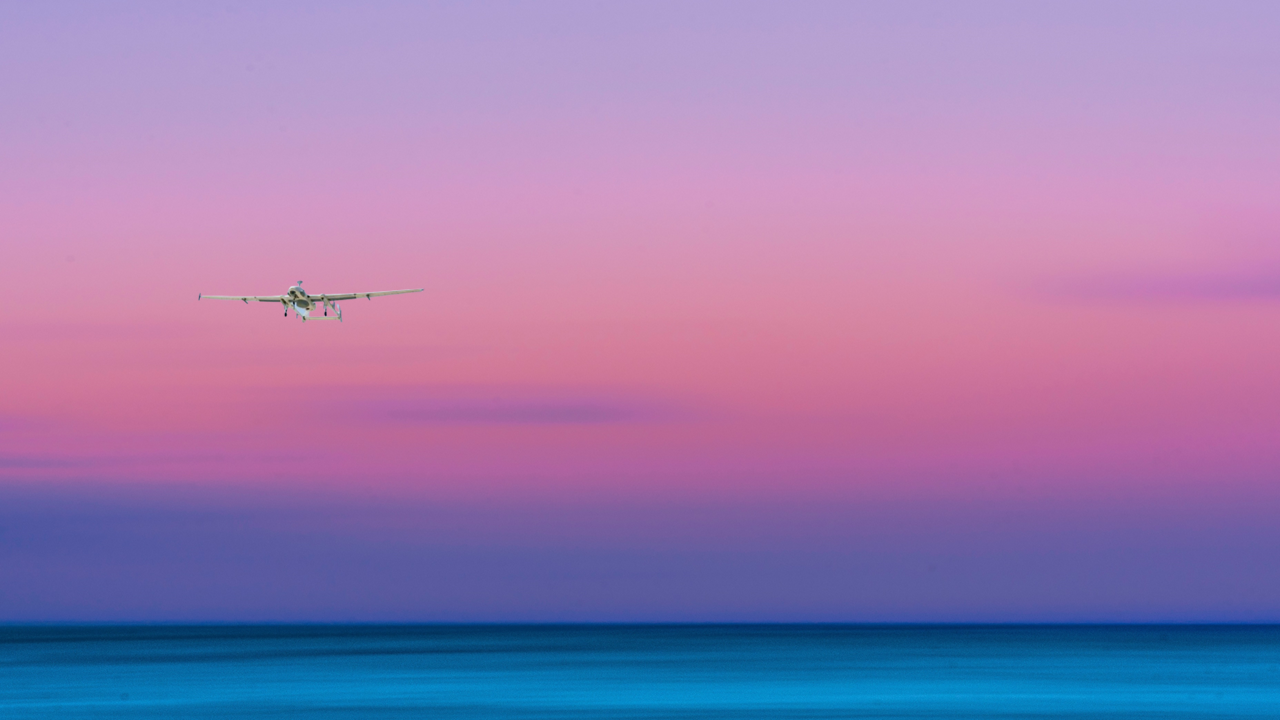military drone: (197, 280, 423, 322)
